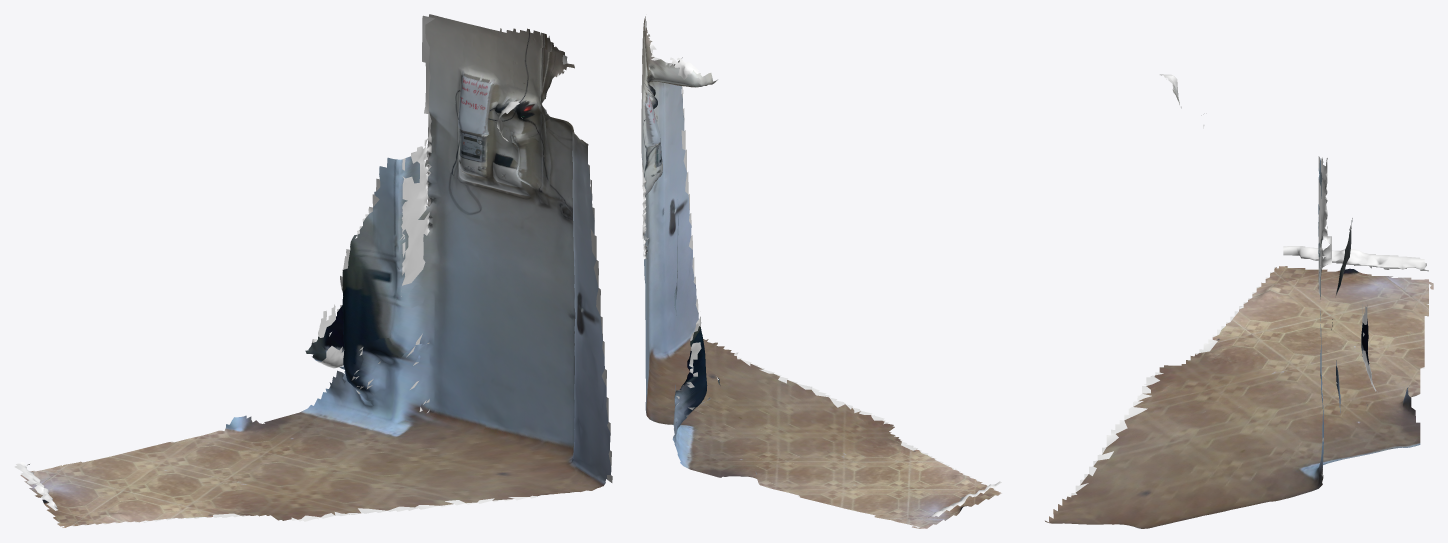
The picture shows the model from 3 angles, left to right: view 1: azimuth 30°, elevation 25°; view 2: azimuth 150°, elevation 25°; view 3: azimuth 270°, elevation 25°; orthographic projection. The views are drawn at different scales.
Parts seen in each view (by area): view 1: texture_0, object 1; view 2: texture_0, object 1; view 3: texture_0, object 1.
Boxes of the visible parts, box(x1,y1,x2,y2) form: texture_0: box(20, 14, 611, 527); object 1: box(14, 15, 612, 528); texture_0: box(641, 16, 1001, 528); object 1: box(641, 21, 1002, 517); texture_0: box(1045, 83, 1433, 528); object 1: box(1066, 74, 1428, 497).
Size of the model in its own units: 2.9 by 2.48 by 1.82.
2 materials, 1 textured.
